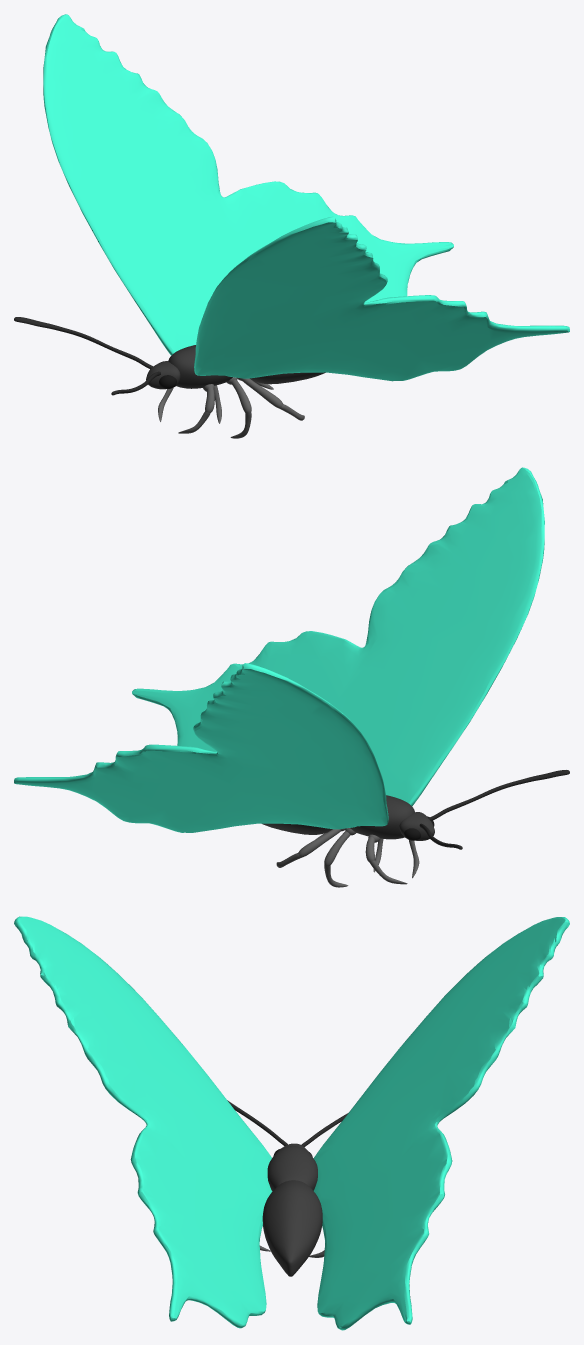
The model's file is butterfly.fbx.
3 renders of one model, top to bottom at view 1: azimuth 30°, elevation 25°; view 2: azimuth 150°, elevation 25°; view 3: azimuth 270°, elevation 25°, orthographic.
Parts seen in each view (by area): view 1: Cube.002, Cube.021, Cube.008, Cube.020, Cube.010, Cube.028; view 2: Cube.021, Cube.002, Cube.008, Cube.012, Cube.011, Cube.023; view 3: Cube.021, Cube.002, Cube.010, Cube.008.
Boxes of the visible parts, box(x1,y1,x2,y2) form: Cube.002: box(43, 14, 453, 355); Cube.021: box(194, 216, 569, 381); Cube.008: box(168, 345, 232, 388); Cube.020: box(14, 317, 153, 368); Cube.010: box(250, 372, 325, 384); Cube.028: box(241, 378, 304, 420); Cube.021: box(132, 467, 544, 806); Cube.002: box(14, 663, 388, 832); Cube.008: box(350, 795, 414, 839); Cube.012: box(428, 770, 569, 820); Cube.011: box(399, 812, 434, 840); Cube.023: box(276, 829, 340, 867); Cube.021: box(14, 916, 272, 1328); Cube.002: box(313, 917, 569, 1330); Cube.010: box(262, 1180, 322, 1276); Cube.008: box(267, 1145, 317, 1191).
Size of the model in its own units: 186 by 128 by 199.
